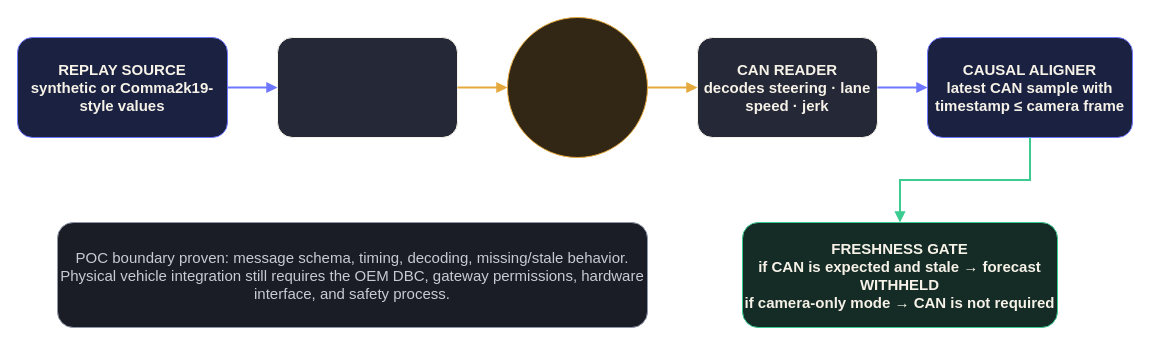
Some shapes in this 1150 by 345 pixel diagram are drawn without their labels. Each missing label, with the centre of its shape:
CAN PUBLISHER encodes IDs + payloads preserves timestamps: point 367,87
python-can VIRTUAL BUS: point 577,87
